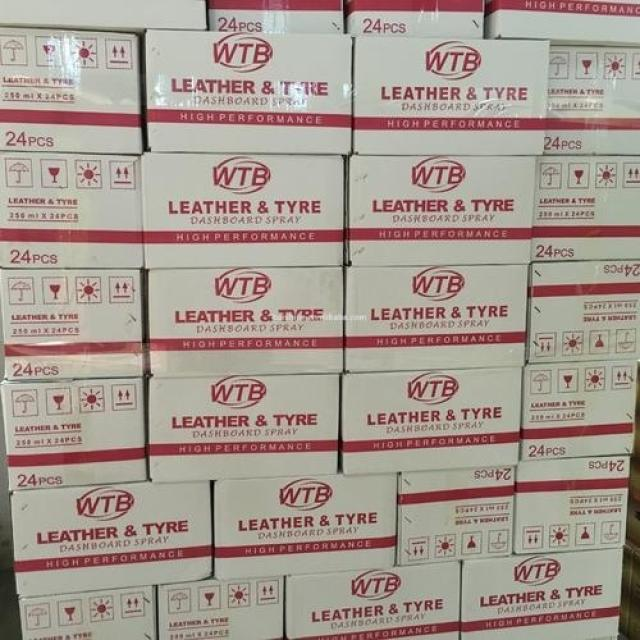box: (146, 33, 353, 156), (11, 481, 214, 597), (355, 36, 550, 156), (144, 154, 350, 267), (148, 267, 345, 379), (349, 155, 537, 265), (147, 374, 341, 479), (345, 264, 531, 372), (212, 473, 399, 577), (339, 367, 522, 473), (0, 26, 146, 154), (0, 151, 146, 272), (1, 378, 147, 492), (460, 548, 621, 637), (284, 562, 461, 639), (397, 467, 515, 566), (529, 259, 639, 364), (520, 365, 637, 463), (511, 457, 628, 554), (533, 156, 639, 261), (544, 43, 639, 155), (159, 576, 283, 639), (16, 584, 157, 638), (485, 3, 638, 45), (0, 2, 210, 30), (346, 2, 485, 38), (207, 2, 344, 33)
